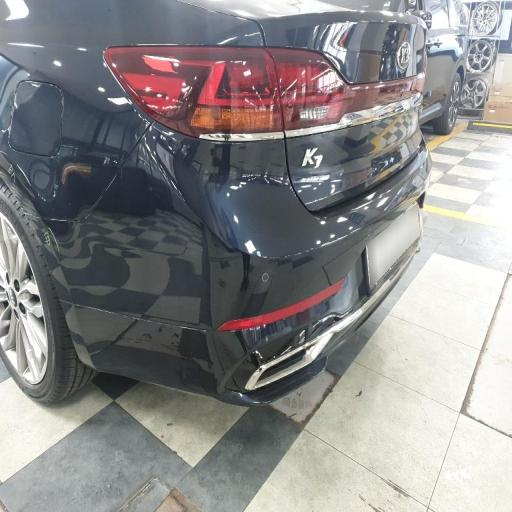dent: (18, 94, 127, 299)
scratch: (199, 111, 447, 291)
